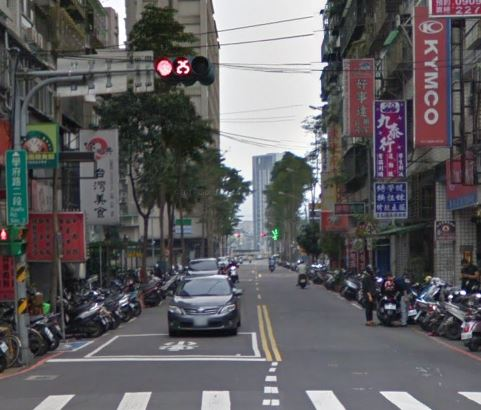Traffic_light_red: (154, 56, 211, 78)
